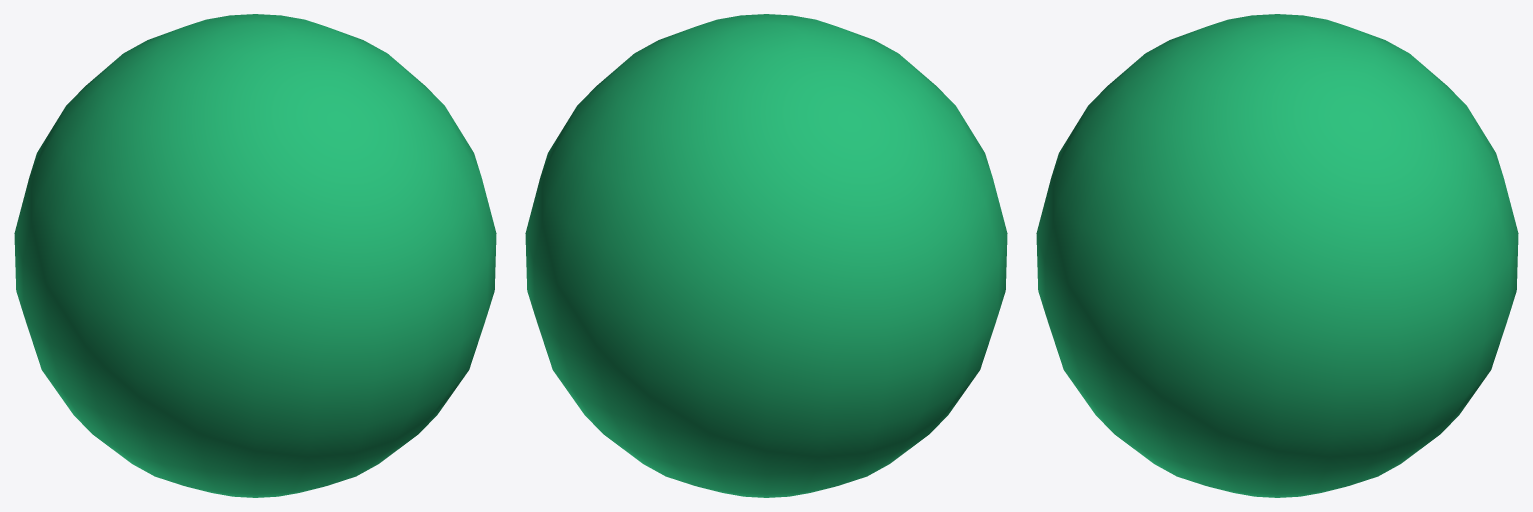
Rendered from ball_green.obj.
3 views of the same model, side by side, from view 1: azimuth 30°, elevation 25°; view 2: azimuth 150°, elevation 25°; view 3: azimuth 270°, elevation 25° (orthographic).
Visible parts, largest first — view 1: ball_green; view 2: ball_green; view 3: ball_green.
Boxes of the visible parts, box(x1,y1,x2,y2) form: ball_green: box(14, 14, 496, 497); ball_green: box(525, 14, 1007, 497); ball_green: box(1036, 14, 1518, 497).
Bounding box in the file's own units: 0.0699 × 0.0698 × 0.0699.
